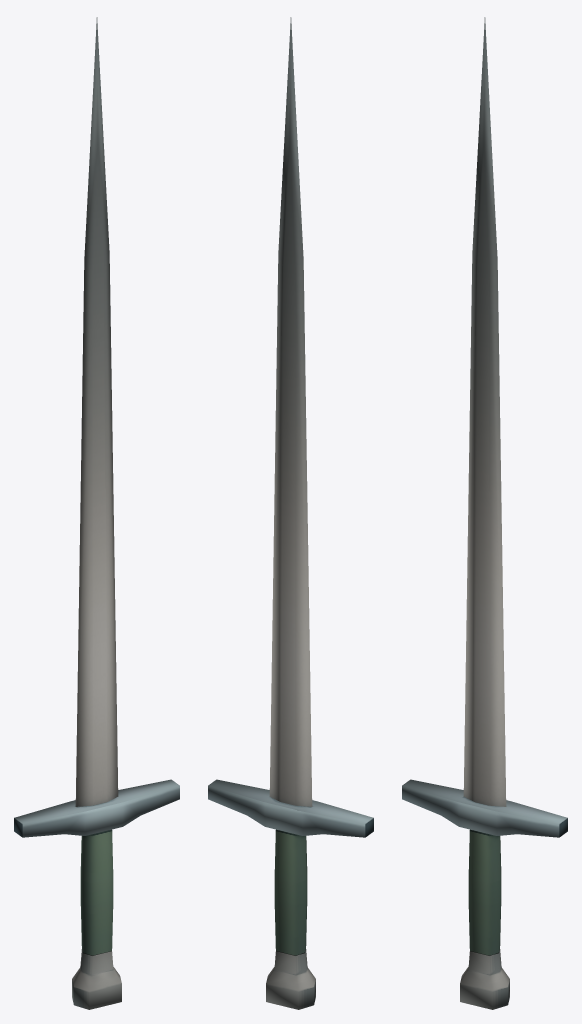
Rendered from sword.obj.
3 views of the same model, side by side, from view 1: azimuth 30°, elevation 25°; view 2: azimuth 150°, elevation 25°; view 3: azimuth 330°, elevation 25° (orthographic).
Visible parts, largest first — view 1: sword; view 2: sword; view 3: sword.
Boxes of the visible parts, x1,y1,x2,y2 form: sword: [14, 17, 179, 1009]; sword: [208, 17, 373, 1009]; sword: [402, 17, 567, 1009].
Size of the model in its own units: 2.66 by 15.92 by 0.5053.
